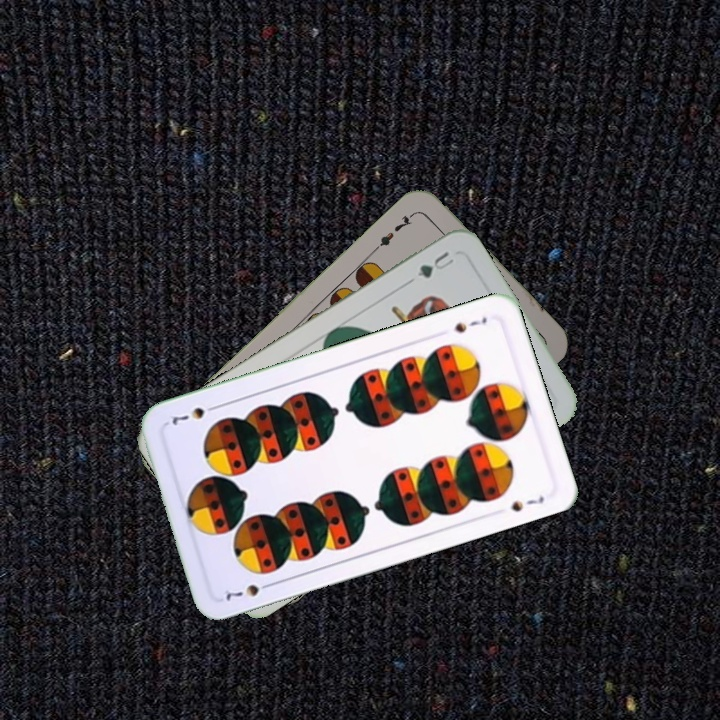E7: (371, 207, 419, 252)
GU: (413, 247, 457, 281)
S7: (221, 578, 277, 604), (450, 312, 490, 336)
